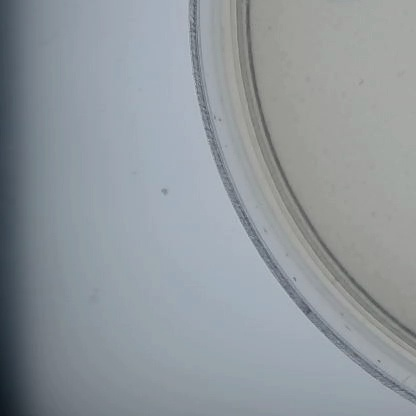worm: (349, 78, 369, 92)
